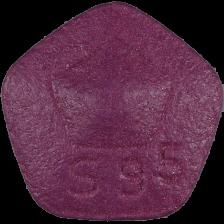0007-4895: (0, 0, 224, 224)
